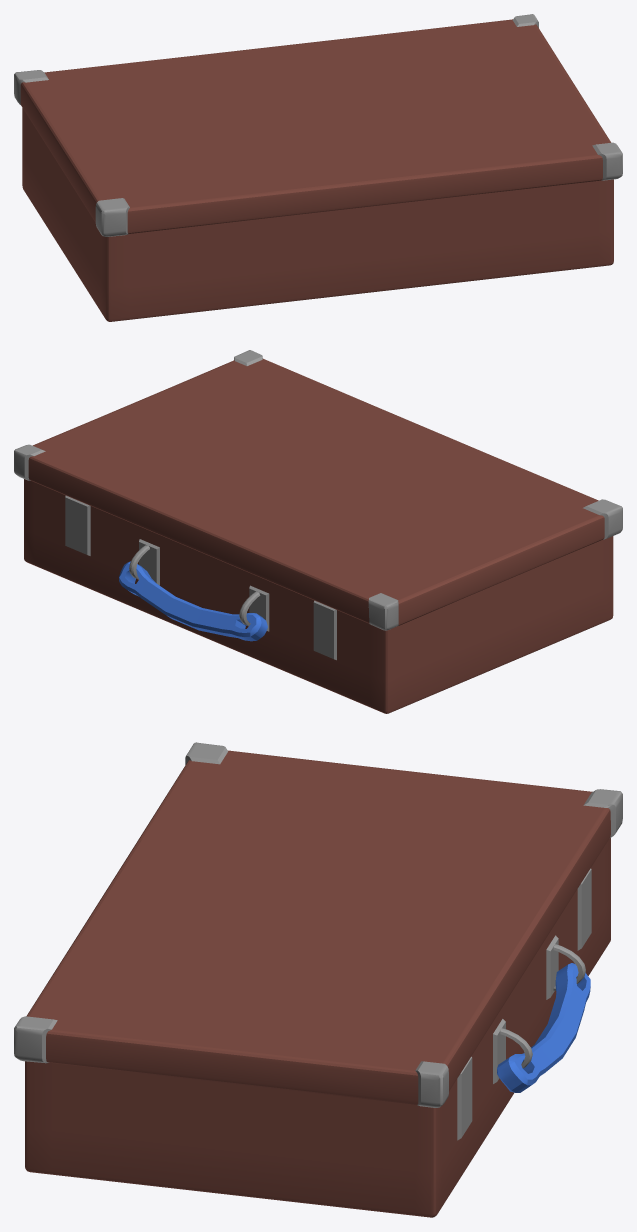
Rendered from suitCase.FBX.
The picture shows the model from 3 angles, top to bottom: view 1: azimuth 30°, elevation 25°; view 2: azimuth 150°, elevation 25°; view 3: azimuth 270°, elevation 25°; orthographic projection. The views are drawn at different scales.
Parts seen in each view (by area): view 1: SuitCase; view 2: SuitCase; view 3: SuitCase.
Part boxes in pixels (box(x1,y1,x2,y2)): SuitCase: box(14, 14, 622, 321); SuitCase: box(14, 350, 622, 713); SuitCase: box(14, 742, 622, 1217).
Size of the model in its own units: 108 by 22.54 by 83.29.
